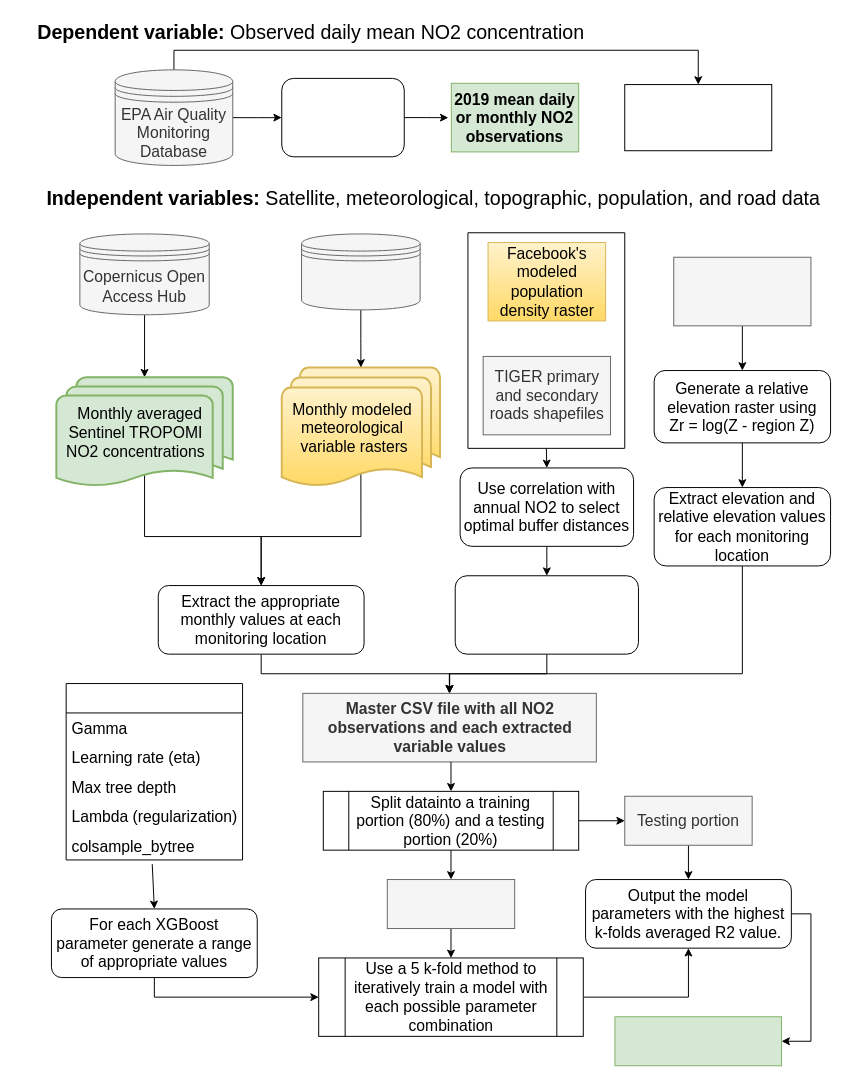
This 857x1083 diagram has some shape labels left out. The box of each missing label's shape, as (x1, y1, x2, y2) in pixels:
Copernicus Data Store: (301, 233, 420, 310)
Extract population and road length buffer sums for each monitoring location: (454, 575, 638, 654)
Remove daily observations w/ less than 70% coverage: (281, 77, 404, 157)
Shapefile of NO2 monitoring stations: (624, 84, 772, 151)
Test prediction model!: (614, 1016, 782, 1066)
The National Map 1arc second DEM: (673, 256, 811, 326)
Training portion: (386, 879, 515, 929)
XGBoost parameters: (65, 683, 243, 860)
